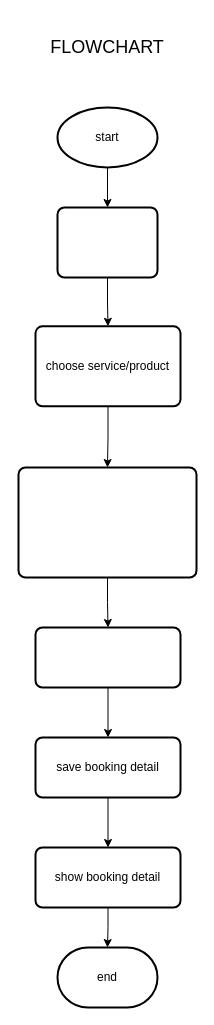
Some shapes in this 214 by 1025 pixel diagram are drawn without their labels. The shapes that lost their labels are listed below. From the top down, each one's box as (x1, y1, x2, y2) in pixels, then its label:
(56, 206, 158, 278): user login
(17, 466, 197, 578): fill booking detail (type order, date, payment type, additional product)
(34, 626, 181, 688): save booking
